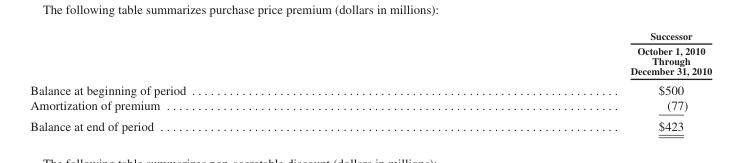table: (29, 29, 711, 132)
table column: (29, 29, 407, 132), (407, 29, 711, 132)
table column header: (29, 29, 711, 79)
table row: (29, 29, 711, 79), (29, 79, 711, 97), (29, 97, 711, 115), (29, 115, 711, 132)
